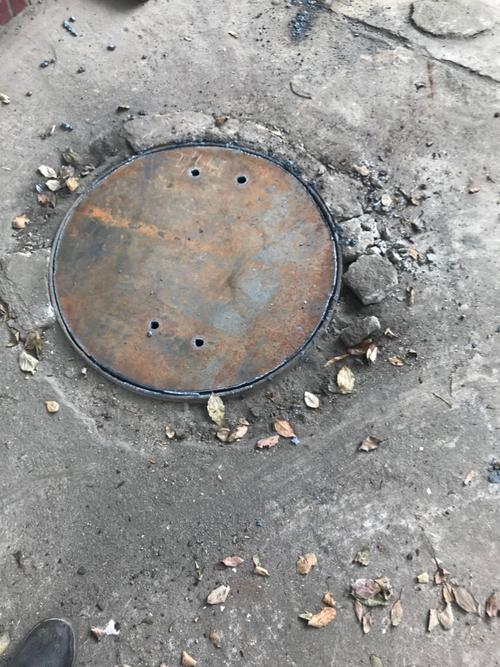circle: (14, 103, 440, 471)
